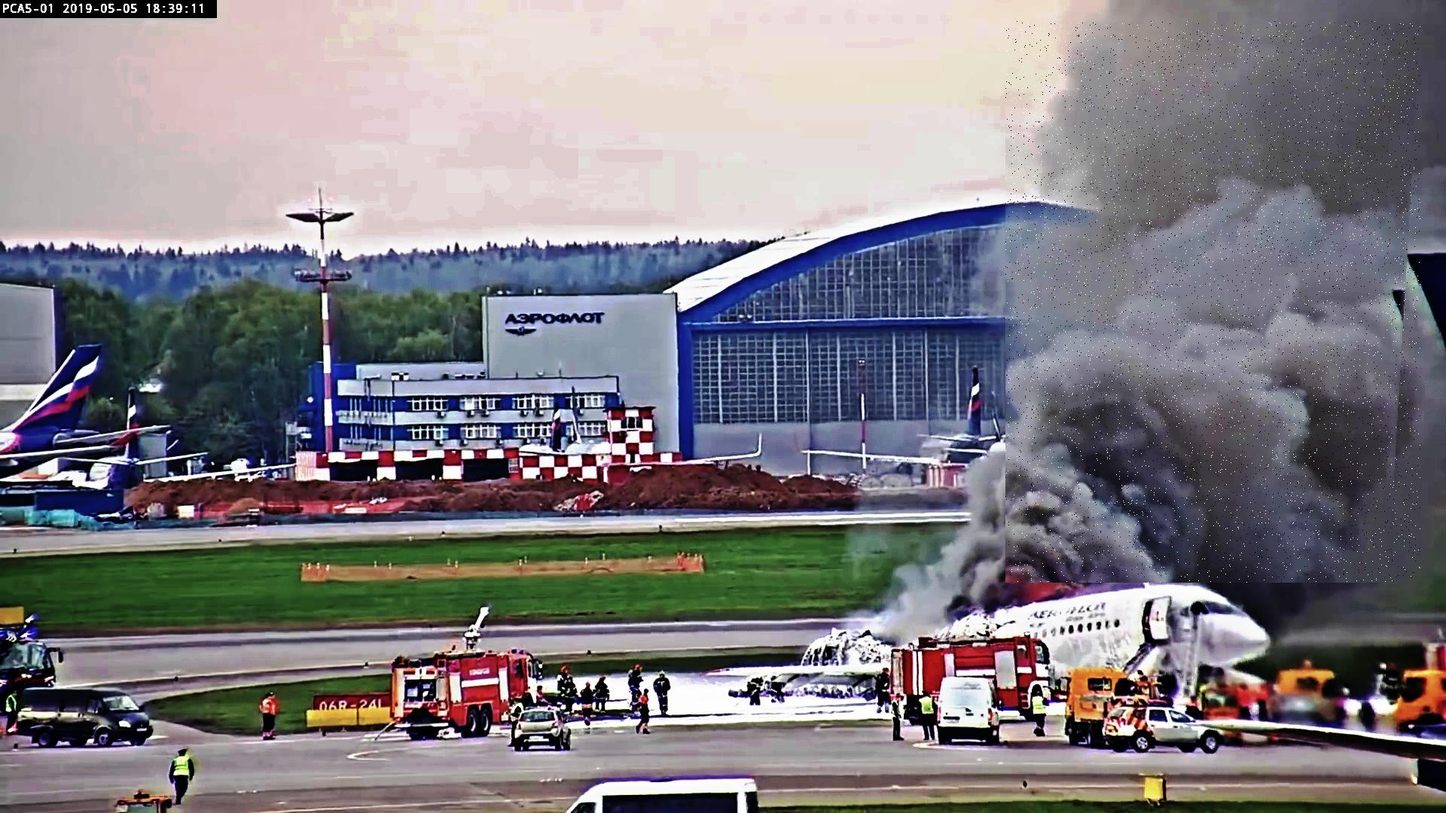smoke: (1006, 21, 1421, 583)
